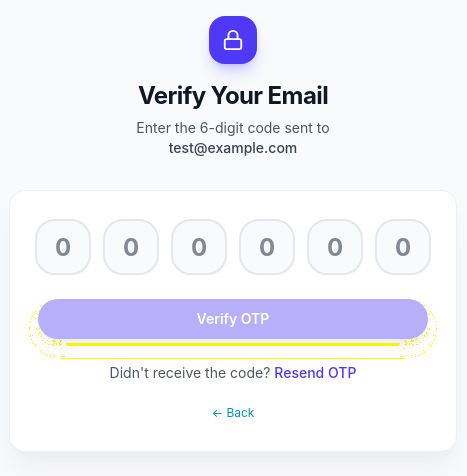
OTPVerificationPage › Resend Cooldown Timer › should start 30 second cooldown on resend
Click the button "Resend OTP". click: (315, 373)
box: [274, 363, 356, 383]
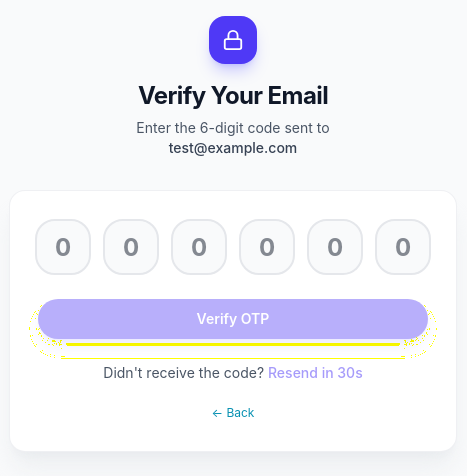
Expected: the button "Resend in 30s" is disabled, [268, 363, 363, 383]
